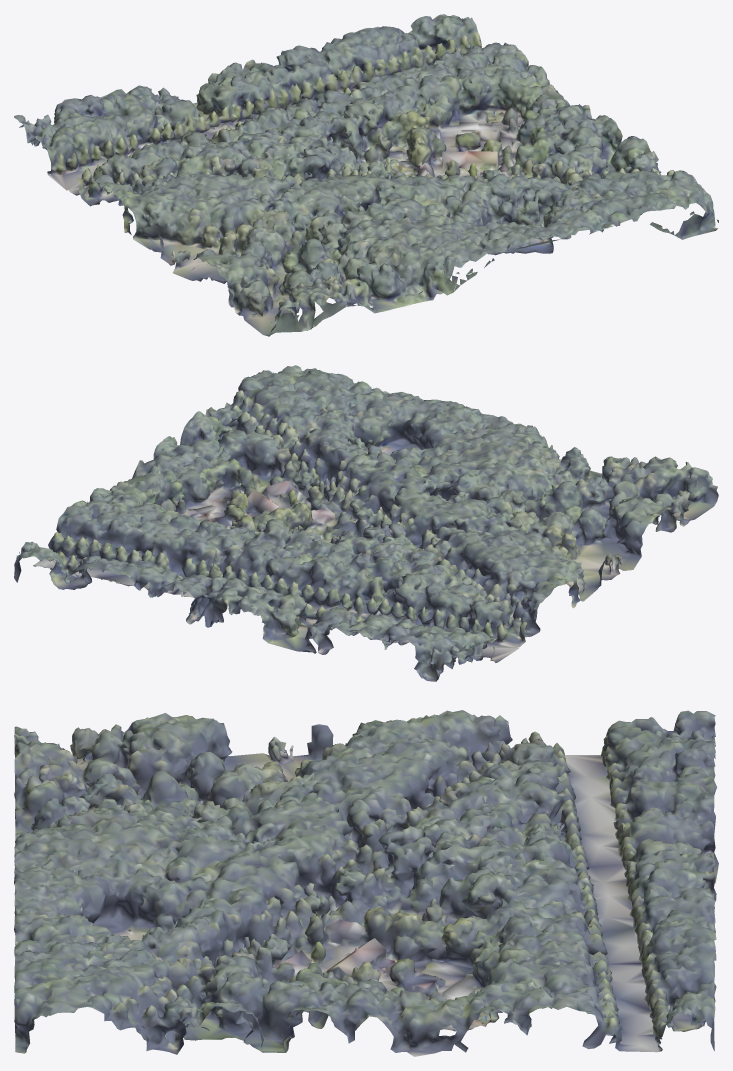
The model's file is tile-3887_58193.glb.
3 renders of one model, top to bottom at view 1: azimuth 30°, elevation 25°; view 2: azimuth 150°, elevation 25°; view 3: azimuth 270°, elevation 25°, orthographic. The views are drawn at different scales.
Parts seen in each view (by area): view 1: world; view 2: world; view 3: world.
Part boxes in pixels (bbox=[...]): world: bbox=[14, 14, 718, 336]; world: bbox=[14, 365, 718, 681]; world: bbox=[14, 710, 718, 1056].
Size of the model in its own units: 370 by 34.54 by 363.
